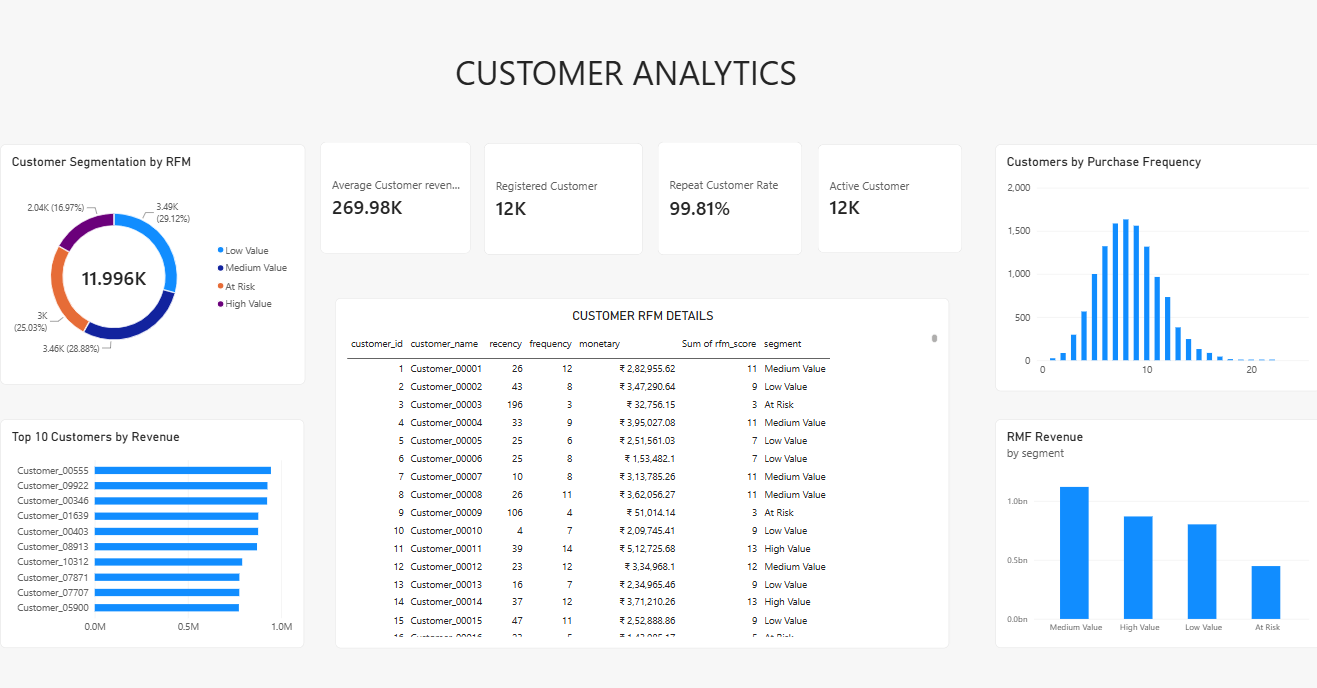

The dashboard page shown, as its layout file describes it:
{"tool":"powerbi","page":{"name":"Customer analytics","canvas":[1920,1080],"ordinal":1},"visuals":[{"type":"cardVisual","fields":{"Data":["customers.Repeat Customer Rate"]},"box":[960.2,222.7,209.6,164.7],"z":0},{"type":"cardVisual","title":"Active Customers","fields":{"Data":["customers.Active Customer"]},"box":[1192.3,226.5,209.6,157.2],"z":1000},{"type":"cardVisual","fields":{"Data":["customers.Average Customer revenue"]},"box":[471.7,222.7,219,162.8],"z":2000},{"type":"cardVisual","fields":{"Data":["customers.Registered Customer"]},"box":[709.4,224.6,230.2,162.8],"z":3000},{"type":"donutChart","title":"Customer Segmentation by RFM","fields":{"Category":["rfm_customer_segment.segment"],"Y":["CountNonNull(rfm_customer_segment.customer_id)"]},"box":[9.4,226.5,441.7,348.1],"z":4000},{"type":"clusteredColumnChart","fields":{"Category":["rfm_customer_segment.segment"],"Y":["customers.RMF Revenue"]},"box":[1448.7,625.2,471.7,331.3],"z":5000},{"type":"clusteredBarChart","title":"Top 10 Customers by Revenue","fields":{"Y":["orders.total_revenue"],"Category":["customers.customer_name"]},"box":[9.4,625.2,439.9,331.3],"z":6000},{"type":"columnChart","title":"Customers by Purchase Frequency","fields":{"Category":["rfm_customer_segment.frequency"],"Y":["CountNonNull(rfm_customer_segment.customer_id)"]},"box":[1448.7,226.5,471.7,357.5],"z":7000},{"type":"tableEx","title":" CUSTOMER RFM DETAILS    ","fields":{"Values":["rfm_customer_segment.customer_id","customers.customer_name","rfm_customer_segment.recency","rfm_customer_segment.frequency","rfm_customer_segment.monetary","Sum(rfm_customer_segment.rfm_score)","rfm_customer_segment.segment"]},"box":[494.1,449.2,889.1,507.2],"z":8000},{"type":"textbox","box":[666.3,63.6,544.7,76.7],"z":8001}]}

Visuals, with their boxes on the page's 1920x1080 design canvas (x1, y1, x2, y2). These are canvas units, not pixel positions in the 1317x688 screenshot, which may show the page scaled, cropped or inside an application window:
cardVisual - customers.Repeat Customer Rate: bbox(960, 223, 1170, 387)
"Active Customers" cardVisual: bbox(1192, 226, 1402, 384)
cardVisual - customers.Average Customer revenue: bbox(472, 223, 691, 386)
cardVisual - customers.Registered Customer: bbox(709, 225, 940, 387)
"Customer Segmentation by RFM" donutChart: bbox(9, 226, 451, 575)
clusteredColumnChart - rfm_customer_segment.segment x customers.RMF Revenue: bbox(1449, 625, 1920, 956)
"Top 10 Customers by Revenue" clusteredBarChart: bbox(9, 625, 449, 956)
"Customers by Purchase Frequency" columnChart: bbox(1449, 226, 1920, 584)
" CUSTOMER RFM DETAILS    " tableEx: bbox(494, 449, 1383, 956)
textbox: bbox(666, 64, 1211, 140)
